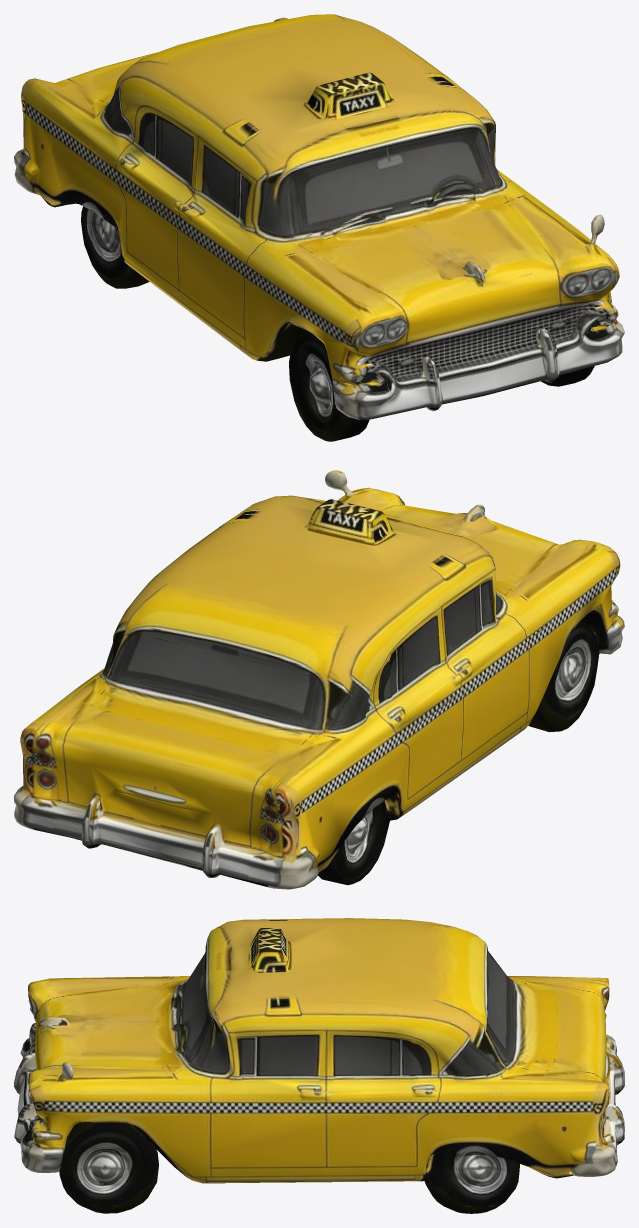
The model's file is taxi_57.glb.
The picture shows the model from 3 angles, top to bottom: view 1: azimuth 30°, elevation 25°; view 2: azimuth 150°, elevation 25°; view 3: azimuth 270°, elevation 25°; orthographic projection. The views are drawn at different scales.
Parts seen in each view (by area): view 1: textured; view 2: textured; view 3: textured.
Boxes of the visible parts, x1,y1,x2,y2 form: textured: (14,14,624,441); textured: (14,470,624,889); textured: (14,918,624,1213).
Bounding box in the file's own units: 0.9593 × 0.8041 × 1.99.
1 material, 1 textured.
